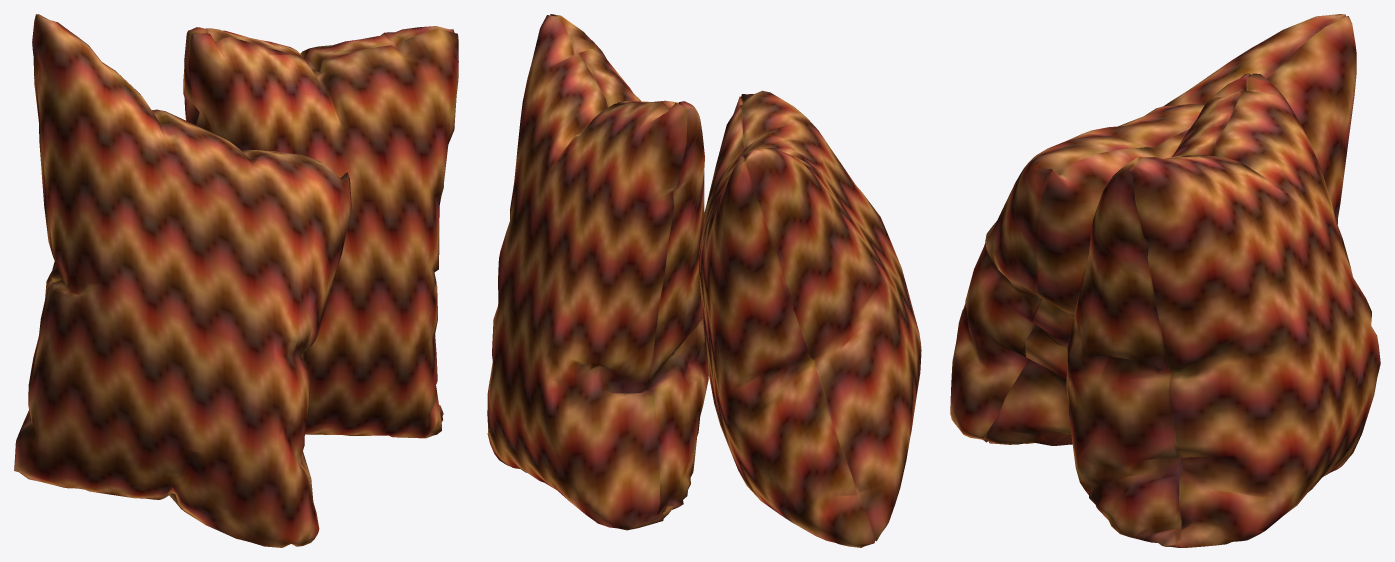
The model's file is ph-throw-pillows-01.glb.
The picture shows the model from 3 angles, left to right: view 1: azimuth 30°, elevation 25°; view 2: azimuth 150°, elevation 25°; view 3: azimuth 270°, elevation 25°; orthographic projection. The views are drawn at different scales.
Parts seen in each view (by area): view 1: throw_pillows_01_pillow02; view 2: throw_pillows_01_pillow02; view 3: throw_pillows_01_pillow02.
Part boxes in pixels (<box>): throw_pillows_01_pillow02: <box>14,14,458,547</box>; throw_pillows_01_pillow02: <box>487,14,921,547</box>; throw_pillows_01_pillow02: <box>950,14,1380,547</box>.
Bounding box in the file's own units: 1 × 1 × 1.
1 material, 1 textured.
